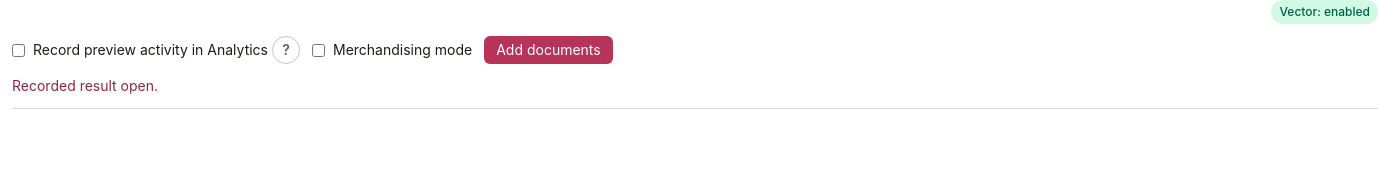
Test case: SearchPreviewHeader › explains preview recording semantics and exposes delivery status
Click the button named "About Track Analytics" at (286, 50), box top-left (272, 36), bottom-right (300, 64)
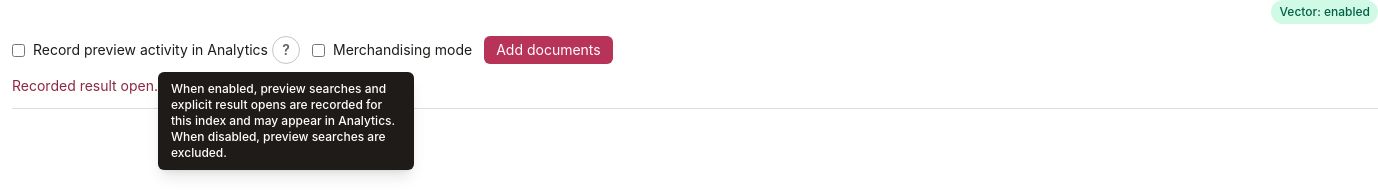
Check: the message reads "Recorded result open.", box top-left (12, 77), bottom-right (158, 94)
Check: the tooltip shows "When enabled, preview searches and explicit result opens are recorded for this index and may appear in Analytics. When disabled, preview searches are excluded.", box top-left (171, 81), bottom-right (395, 160)
